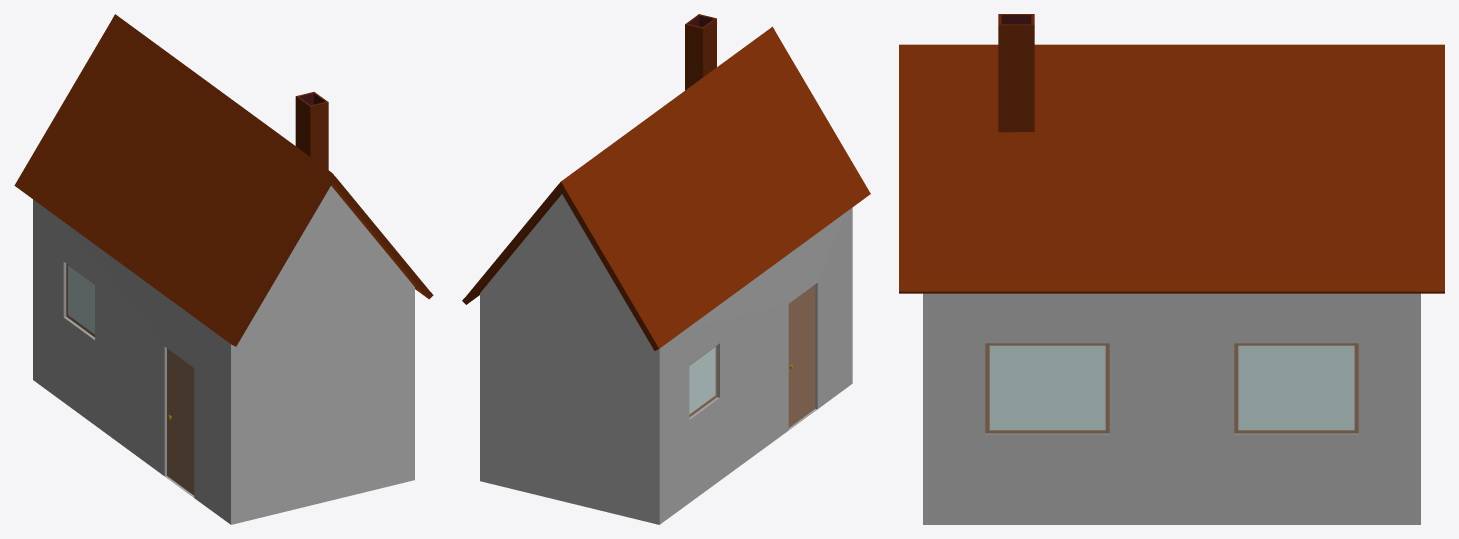
Rendered from housenew.fbx.
3 views of the same model, side by side, from view 1: azimuth 30°, elevation 25°; view 2: azimuth 150°, elevation 25°; view 3: azimuth 270°, elevation 25° (orthographic). The views are drawn at different scales.
Visible parts, largest first — view 1: Cube; view 2: Cube; view 3: Cube.
Boxes of the visible parts, x1=… form: Cube: x1=14, y1=14, x2=433, y2=524; Cube: x1=462, y1=14, x2=870, y2=524; Cube: x1=899, y1=14, x2=1444, y2=524.
Size of the model in its own units: 1846 by 3226 by 3432.
